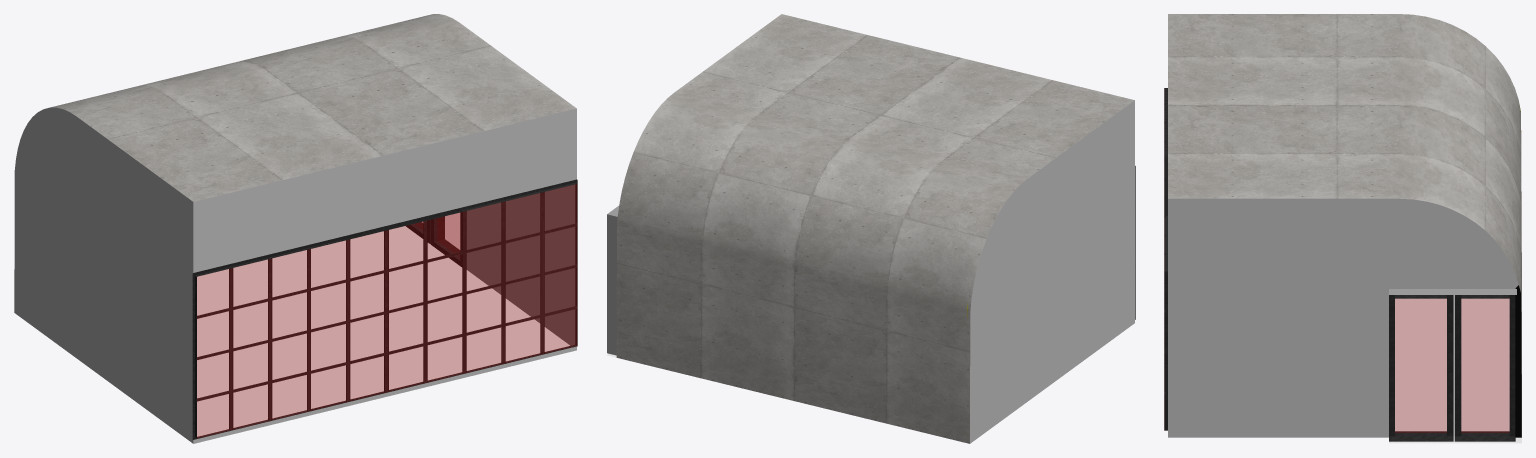
The model's file is savic_room.fbx.
3 renders of one model, left to right at view 1: azimuth 30°, elevation 25°; view 2: azimuth 150°, elevation 25°; view 3: azimuth 270°, elevation 25°, orthographic. The views are drawn at different scales.
Parts seen in each view (by area): view 1: wall_floor, window_glass, window_frame, door_B; view 2: wall_floor, frame; view 3: wall_floor, door_B, door_A, window_frame, frame.
Part boxes in pixels (x1,y1,x2,y2): wall_floor: (14,14,576,443); window_glass: (197,184,576,438); window_frame: (192,179,577,439); door_B: (430,212,462,267); wall_floor: (606,14,1134,443); frame: (607,205,619,355); wall_floor: (1168,14,1521,443); door_B: (1389,295,1453,441); door_A: (1454,295,1515,441); window_frame: (1164,88,1167,430); frame: (1389,289,1516,294).
Bounding box in the file's own units: 1041 × 606 × 822.
